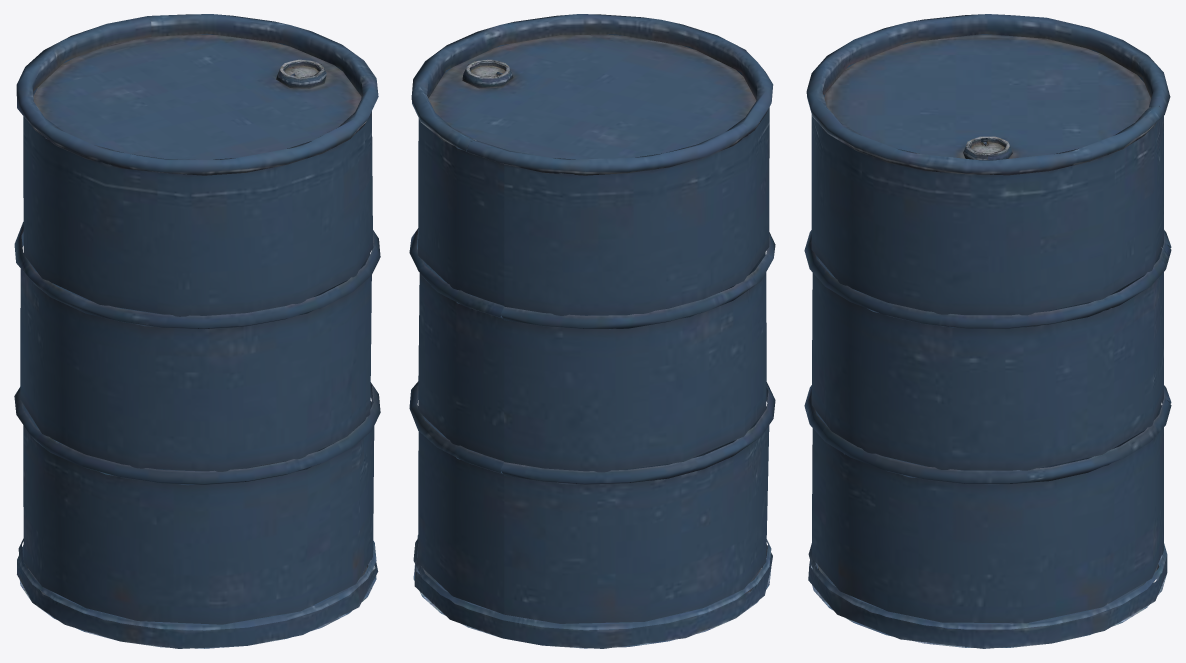
Rendered from barrel_blue.glb.
The picture shows the model from 3 angles, left to right: view 1: azimuth 30°, elevation 25°; view 2: azimuth 150°, elevation 25°; view 3: azimuth 270°, elevation 25°; orthographic projection.
Visible parts, largest first — view 1: barrel_blue; view 2: barrel_blue; view 3: barrel_blue.
Boxes of the visible parts, x1=… form: barrel_blue: x1=14, y1=14, x2=380, y2=648; barrel_blue: x1=409, y1=14, x2=775, y2=648; barrel_blue: x1=804, y1=14, x2=1171, y2=648.
Size of the model in its own units: 0.6336 by 0.9306 by 0.6381.
1 material, 1 textured.
